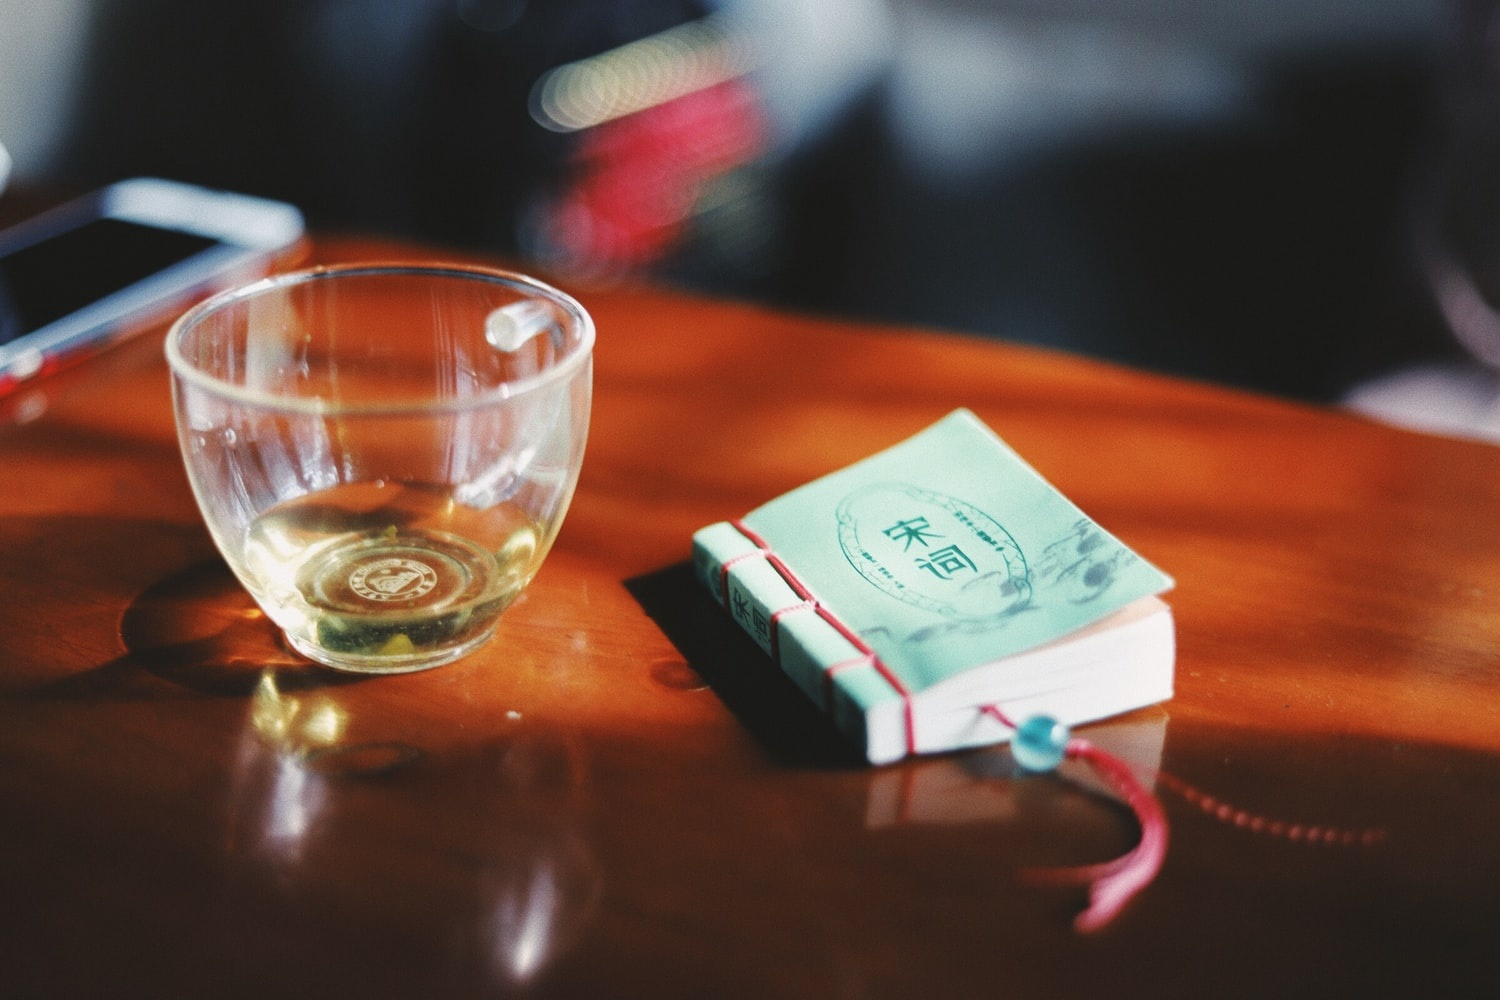whiskey: (140, 266, 596, 680)
